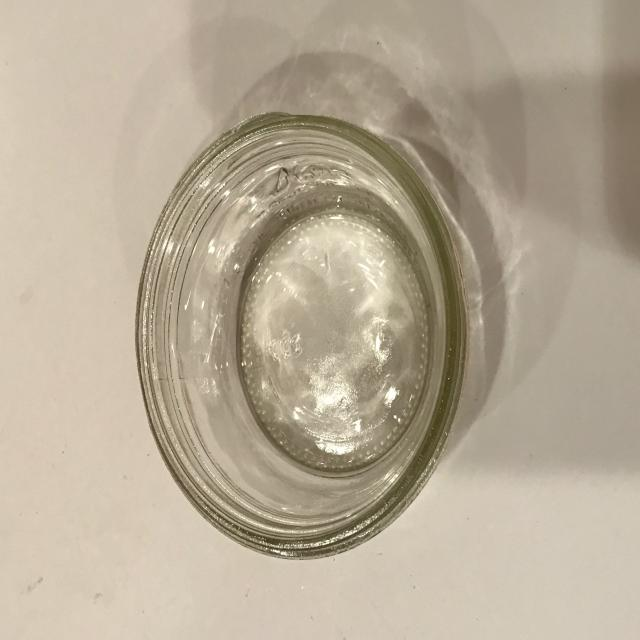glass: (135, 109, 470, 560)
